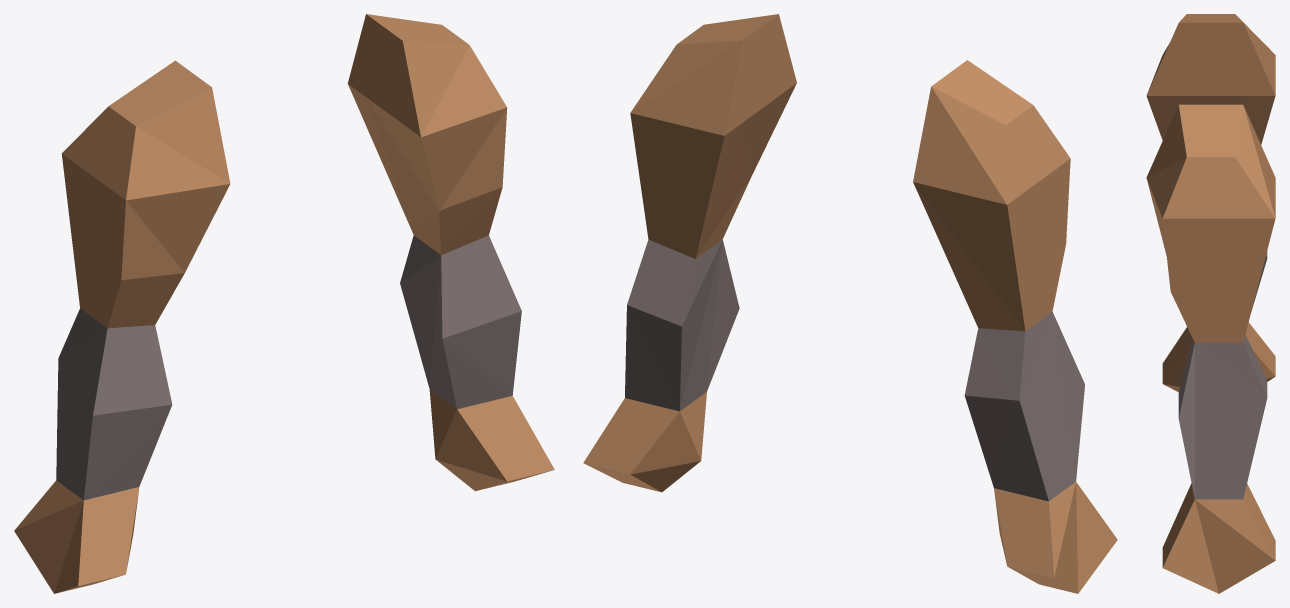
Rendered from model_2979_npc.obj.
3 views of the same model, side by side, from view 1: azimuth 30°, elevation 25°; view 2: azimuth 150°, elevation 25°; view 3: azimuth 270°, elevation 25° (orthographic). The views are drawn at different scales.
Parts seen in each view (by area): view 1: 2979; view 2: 2979; view 3: 2979.
Boxes of the visible parts, left/top/right/bottom form: 2979: left=14, top=14, right=554, bottom=593; 2979: left=583, top=14, right=1117, bottom=593; 2979: left=1146, top=14, right=1275, bottom=593.
Size of the model in its own units: 60 by 59 by 16.
